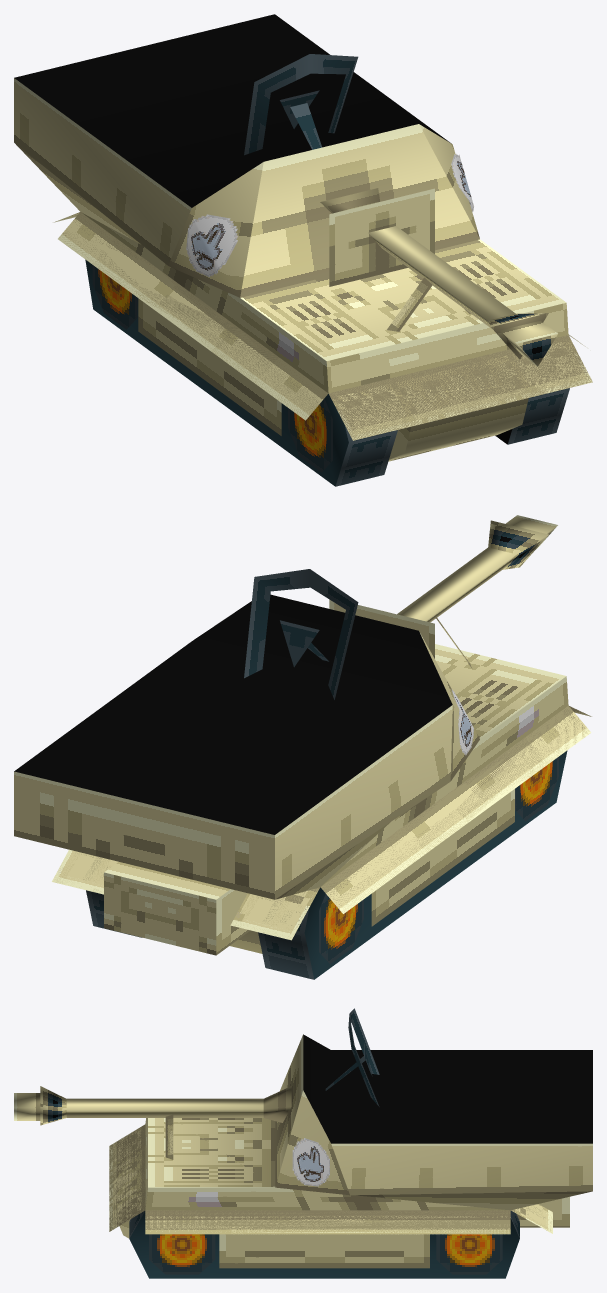
File: kart_KA_b.glb
3 renders of one model, top to bottom at view 1: azimuth 30°, elevation 25°; view 2: azimuth 150°, elevation 25°; view 3: azimuth 270°, elevation 25°, orthographic. The views are drawn at different scales.
Visible parts, largest first — view 1: kart_KA_b; view 2: kart_KA_b; view 3: kart_KA_b.
Boxes of the visible parts, left/top/right/bottom form: kart_KA_b: left=14, top=14, right=592, bottom=486; kart_KA_b: left=14, top=515, right=591, bottom=979; kart_KA_b: left=14, top=1008, right=592, bottom=1278.
Bounding box in the file's own units: 0.582 × 0.5962 × 1.39.
Materials: 3 (3 with a texture image).
